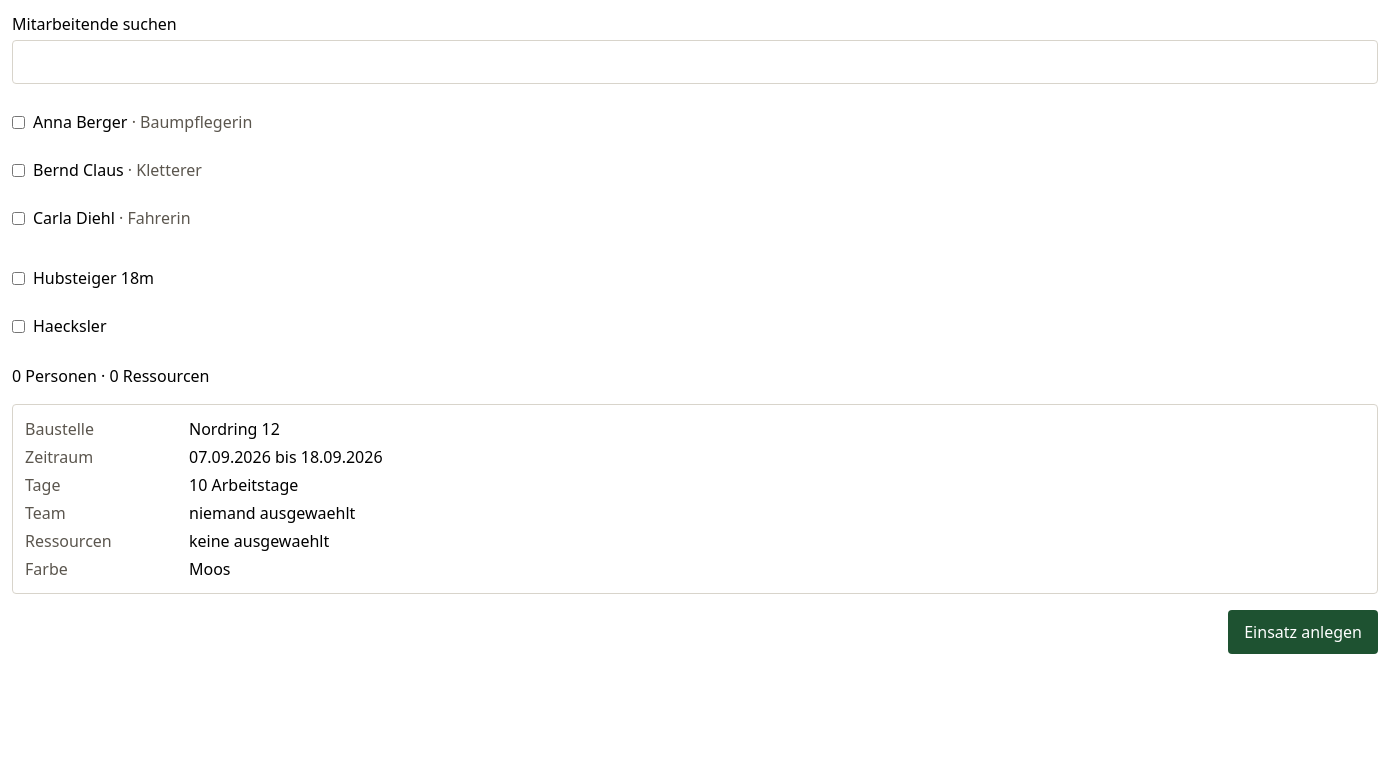
Scenario: StepTeam › zeigt bei 409 die konfliktbehafteten Tage im Banner
The width and height of the screenshot is (1390, 780).
Click the button "Einsatz anlegen" at (1303, 632), box [1228,610,1378,654]
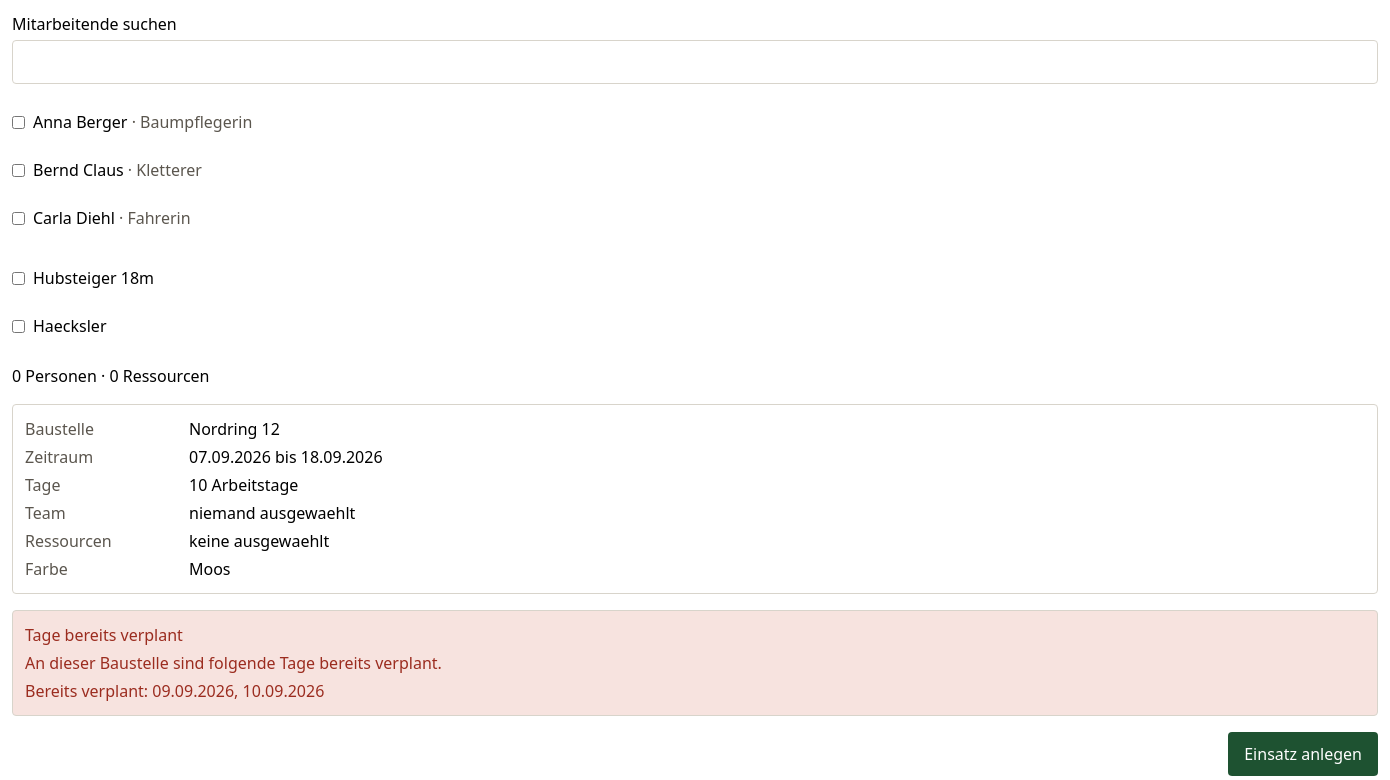
Result: the message shows "09.09.2026" at [152,680,324,702]
Result: the message shows "10.09.2026" at [152,680,324,702]
